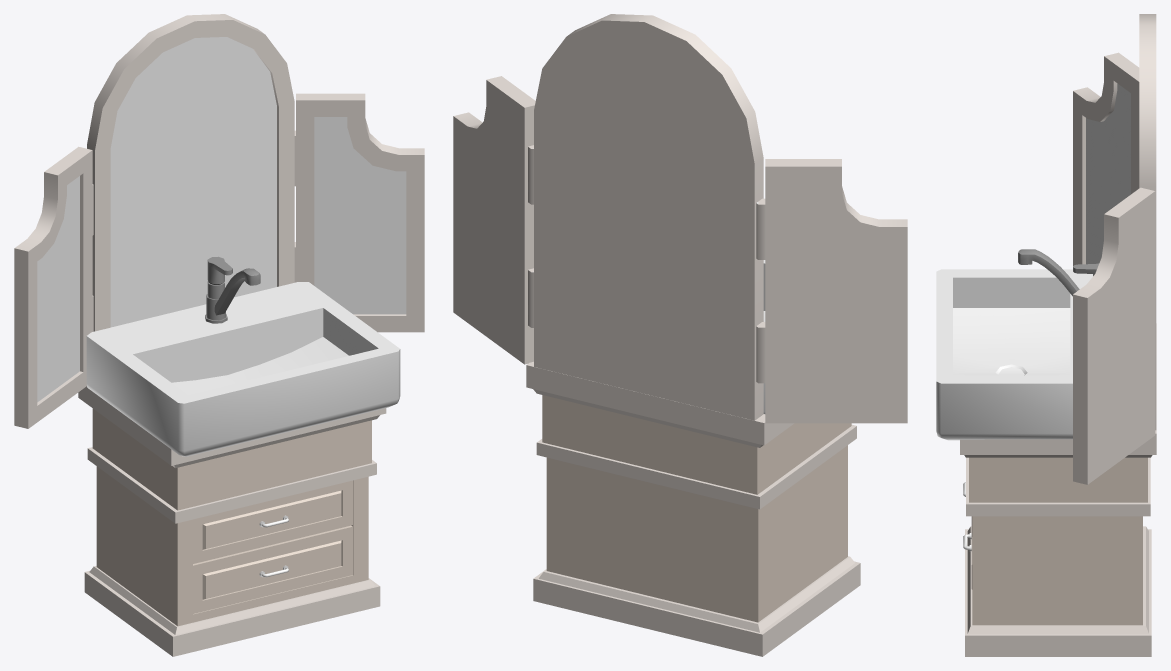
Rendered from washstand_A.fbx.
The picture shows the model from 3 angles, left to right: view 1: azimuth 30°, elevation 25°; view 2: azimuth 150°, elevation 25°; view 3: azimuth 270°, elevation 25°; orthographic projection. The views are drawn at different scales.
Visible parts, largest first — view 1: TableMirror_02, StandaloneSink_02, TableMirror_02.001, polySurface115, polySurface114, TableMirror_02_Right, polySurface120, polySurface124, TableMirror_02_Left, Faucet_06_Handle; view 2: TableMirror_02.001, polySurface115, polySurface114; view 3: TableMirror_02.001, polySurface115, StandaloneSink_02, polySurface114, TableMirror_02_Left, Faucet_06_Handle.
Part boxes in pixels (left/top/right/bottom): TableMirror_02: left=110, top=37, right=276, bottom=327; StandaloneSink_02: left=86, top=282, right=400, bottom=456; TableMirror_02.001: left=14, top=14, right=424, bottom=428; polySurface115: left=92, top=408, right=371, bottom=626; polySurface114: left=78, top=386, right=386, bottom=656; TableMirror_02_Right: left=314, top=117, right=406, bottom=314; polySurface120: left=193, top=525, right=352, bottom=613; polySurface124: left=193, top=480, right=352, bottom=563; TableMirror_02_Left: left=37, top=176, right=79, bottom=402; Faucet_06_Handle: left=205, top=256, right=260, bottom=323; TableMirror_02.001: left=453, top=14, right=907, bottom=423; polySurface115: left=542, top=395, right=851, bottom=622; polySurface114: left=526, top=361, right=860, bottom=656; TableMirror_02.001: left=1073, top=14, right=1156, bottom=484; polySurface115: left=969, top=457, right=1147, bottom=625; StandaloneSink_02: left=936, top=269, right=1092, bottom=440; polySurface114: left=960, top=323, right=1156, bottom=656; TableMirror_02_Left: left=1086, top=83, right=1130, bottom=264; Faucet_06_Handle: left=1018, top=249, right=1099, bottom=296.
Size of the model in its own units: 121 by 155 by 53.5.
